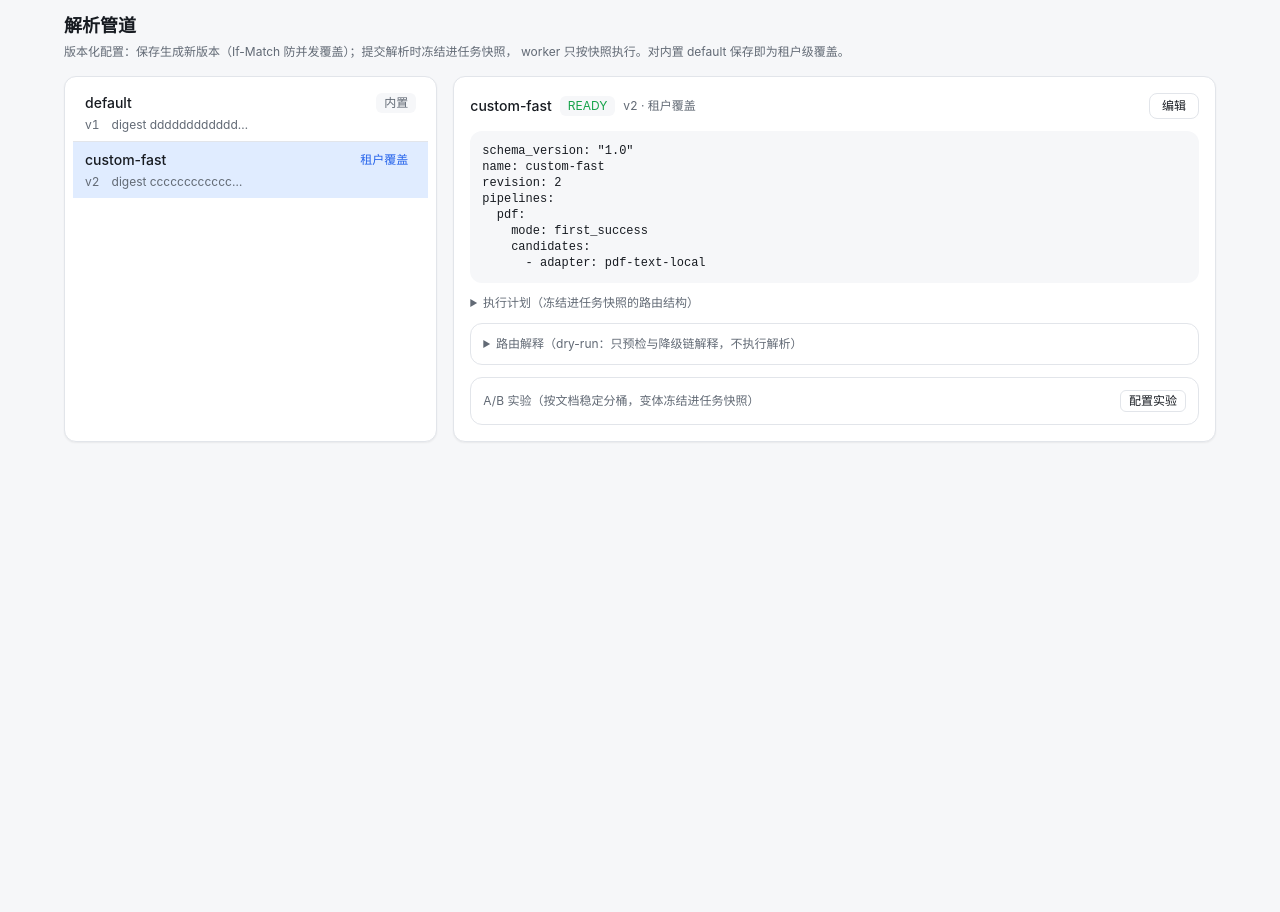
解析管道页 › 实验保存中禁用按钮；失败以 alert 展示
Click the button "配置实验". click: coordinates (1153, 401)
box: [1120, 390, 1186, 412]
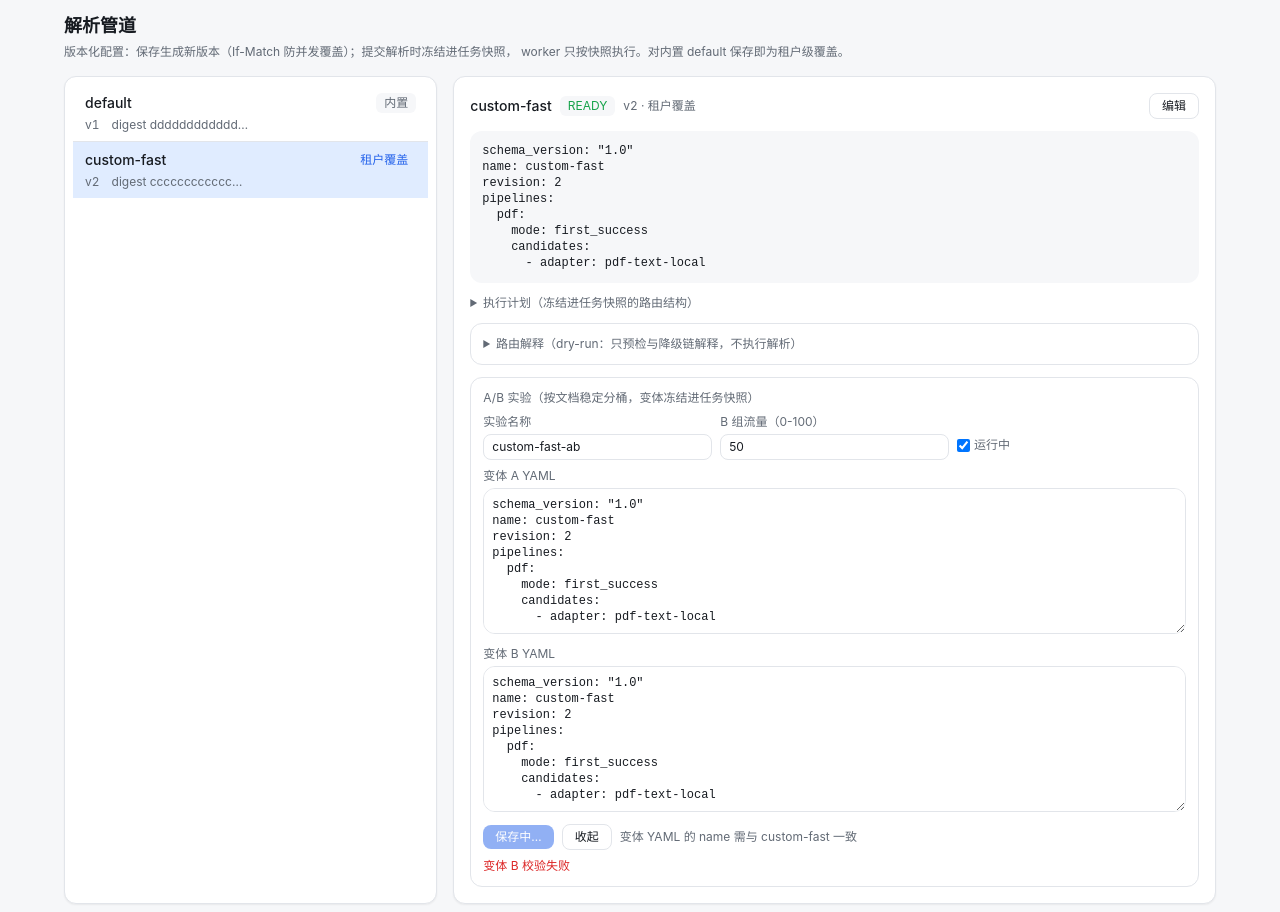
Expected: the button "保存中…" is disabled, [483, 825, 554, 849]
Expected: the message with test id "experiment-error" reads "变体 B 校验失败", [483, 858, 570, 873]
